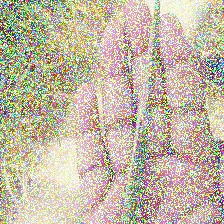Leaf_Blast: (128, 21, 149, 194)
